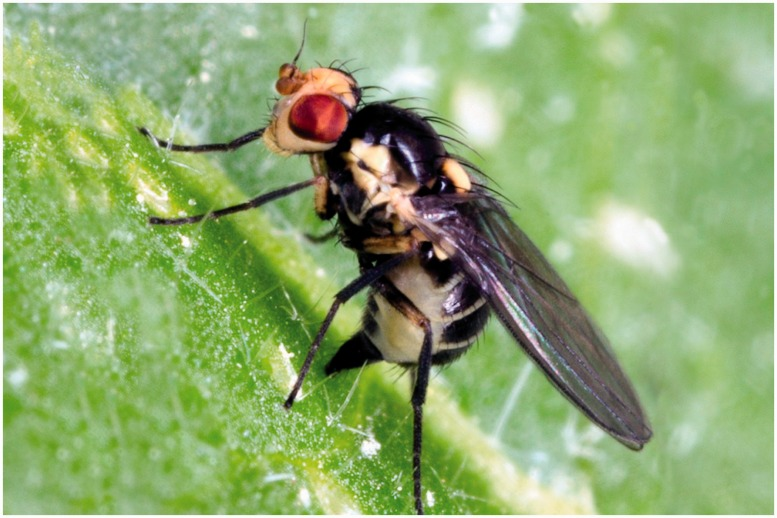Trifoli: (168, 36, 640, 484)
